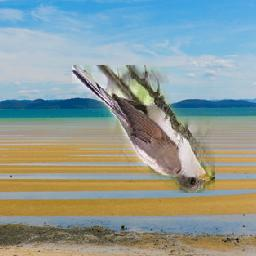Cuckoo: (73, 65, 216, 193)
